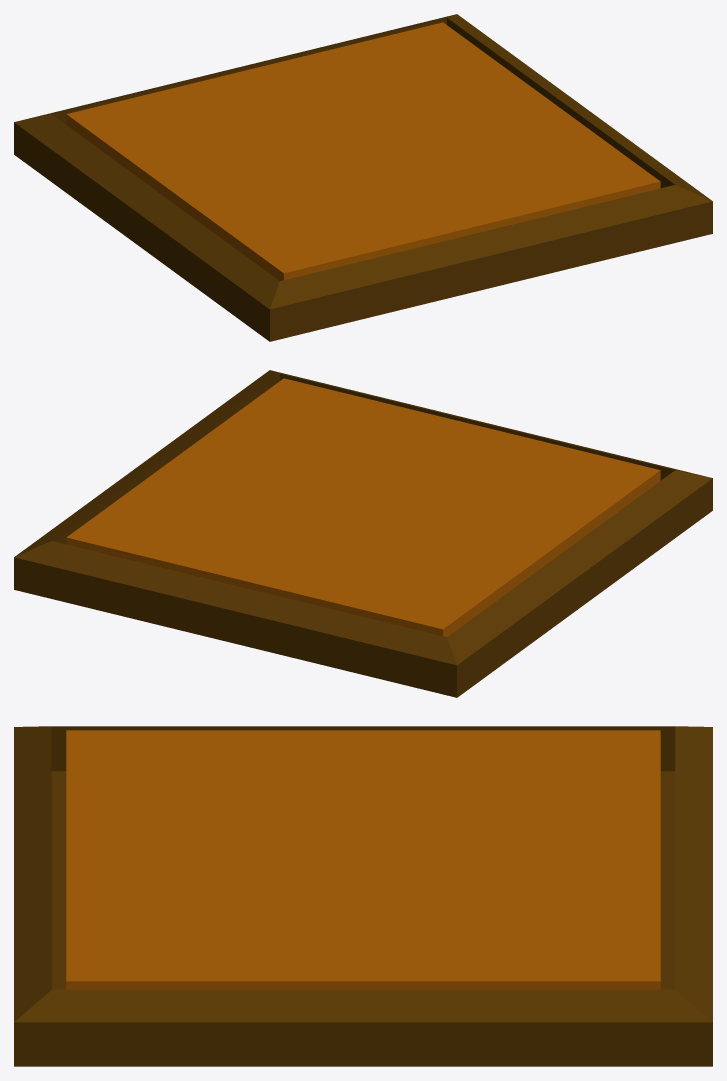
Rendered from trabAAA.fbx.
The picture shows the model from 3 angles, top to bottom: view 1: azimuth 30°, elevation 25°; view 2: azimuth 150°, elevation 25°; view 3: azimuth 270°, elevation 25°; orthographic projection. The views are drawn at different scales.
Visible parts, largest first — view 1: Cube.001, Cube; view 2: Cube.001, Cube; view 3: Cube.001, Cube.
Boxes of the visible parts, bbox=[...] form: Cube.001: bbox=[66, 22, 660, 280]; Cube: bbox=[14, 14, 712, 341]; Cube.001: bbox=[66, 378, 660, 636]; Cube: bbox=[14, 370, 712, 697]; Cube.001: bbox=[66, 730, 660, 989]; Cube: bbox=[14, 726, 712, 1066].
Size of the model in its own units: 200 by 20 by 200.
